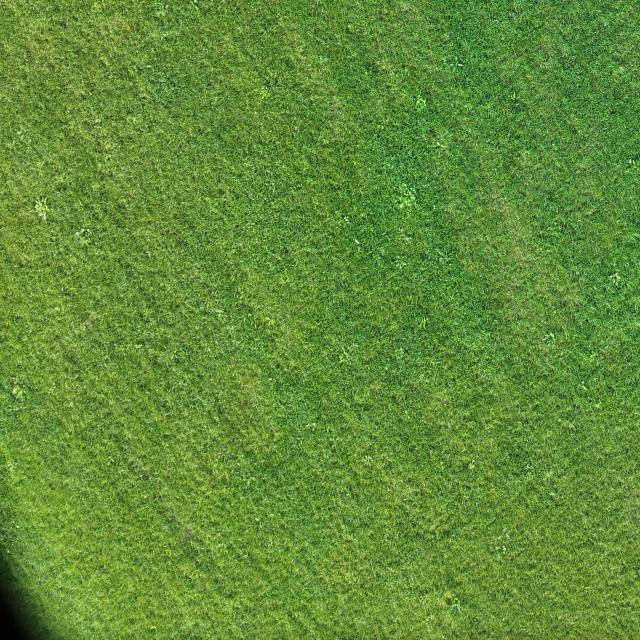rumex: (152, 50, 242, 164), (570, 293, 640, 399), (484, 1, 562, 72), (424, 109, 470, 168), (8, 374, 28, 404), (62, 350, 84, 373), (216, 444, 239, 465), (492, 528, 512, 552), (365, 58, 386, 78), (397, 183, 415, 204), (623, 157, 640, 175), (326, 176, 343, 194), (541, 331, 557, 347), (76, 231, 90, 247), (223, 585, 237, 599), (609, 272, 622, 286), (136, 81, 148, 96), (394, 347, 407, 360), (443, 589, 455, 603), (449, 602, 461, 616), (36, 573, 48, 587), (450, 59, 462, 72), (259, 86, 270, 100), (436, 140, 448, 152), (128, 115, 140, 127), (92, 1, 104, 13), (572, 402, 584, 414), (415, 95, 426, 108), (511, 100, 522, 113), (190, 0, 200, 14), (138, 64, 155, 72), (543, 469, 555, 480), (485, 105, 493, 121), (578, 382, 589, 393), (338, 353, 348, 365), (424, 618, 434, 630), (273, 359, 282, 372), (6, 461, 16, 472), (170, 349, 179, 361), (40, 208, 48, 221), (266, 317, 276, 327), (158, 7, 168, 17), (319, 56, 329, 66), (261, 79, 271, 89), (244, 474, 254, 484), (363, 454, 372, 465), (468, 461, 477, 472), (420, 593, 429, 604), (39, 196, 50, 205), (346, 22, 354, 34), (428, 357, 437, 367), (309, 322, 318, 332), (395, 258, 404, 268), (91, 620, 101, 629), (419, 319, 427, 330), (341, 216, 350, 225), (210, 96, 219, 105), (404, 234, 412, 244), (509, 91, 517, 101), (494, 544, 502, 554), (102, 356, 110, 366), (134, 343, 143, 351), (588, 349, 596, 358), (439, 252, 447, 261), (91, 183, 100, 191), (148, 623, 157, 631), (307, 422, 317, 429), (526, 470, 532, 481), (69, 256, 77, 264), (593, 401, 601, 409), (212, 415, 219, 424), (107, 456, 114, 465), (93, 118, 102, 125), (52, 305, 61, 312), (512, 588, 518, 598), (275, 254, 283, 261), (322, 349, 330, 356), (95, 249, 103, 256), (619, 66, 626, 74), (575, 214, 582, 222), (216, 309, 225, 315), (392, 69, 398, 78), (312, 197, 318, 206), (126, 432, 132, 441), (628, 158, 635, 165), (326, 425, 332, 433), (85, 228, 91, 236), (345, 153, 351, 161), (254, 516, 260, 524), (56, 581, 62, 589), (568, 423, 574, 430), (354, 238, 360, 245), (16, 130, 23, 136), (309, 95, 314, 103), (312, 26, 316, 36), (96, 286, 101, 294), (75, 231, 81, 237), (244, 553, 250, 559), (361, 212, 366, 219), (526, 463, 531, 470), (542, 334, 547, 341), (284, 267, 288, 275), (550, 492, 555, 498), (293, 126, 298, 132), (355, 144, 359, 150), (44, 544, 48, 550)
